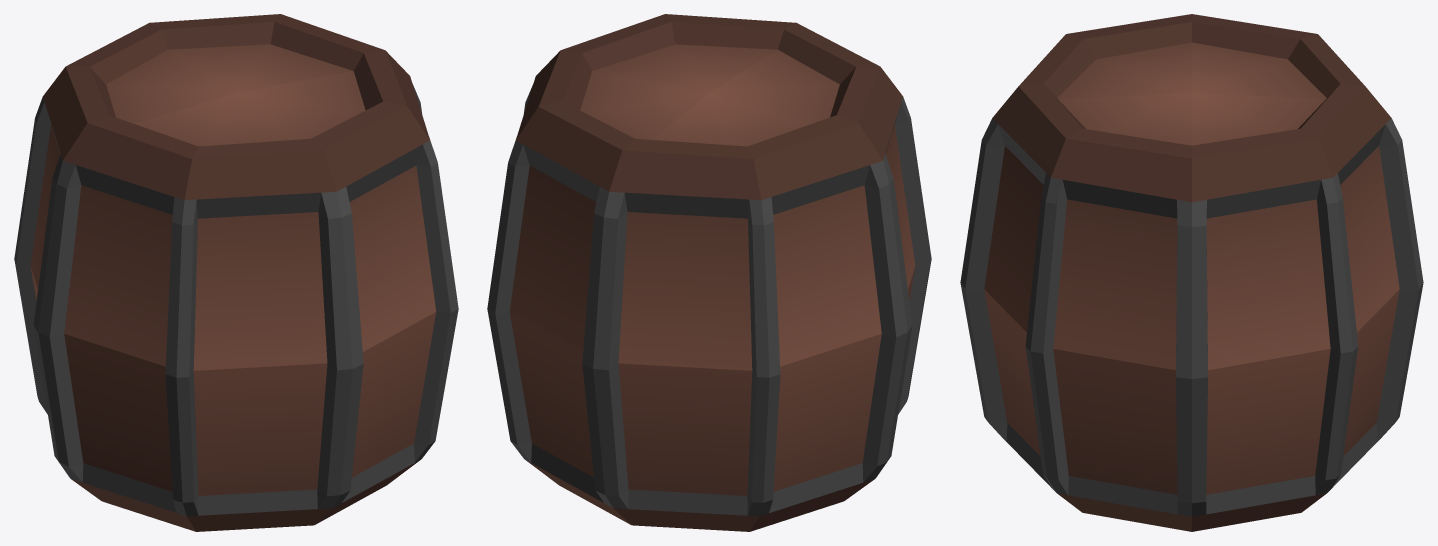
Rendered from Barrel.fbx.
3 renders of one model, left to right at view 1: azimuth 30°, elevation 25°; view 2: azimuth 150°, elevation 25°; view 3: azimuth 270°, elevation 25°, orthographic.
Parts seen in each view (by area): view 1: Barrel; view 2: Barrel; view 3: Barrel.
Part boxes in pixels (x1,y1,x2,y2): Barrel: (14,14,458,531); Barrel: (487,14,931,531); Barrel: (960,14,1423,531).
Bounding box in the file's own units: 0.9887 × 0.9158 × 1.
